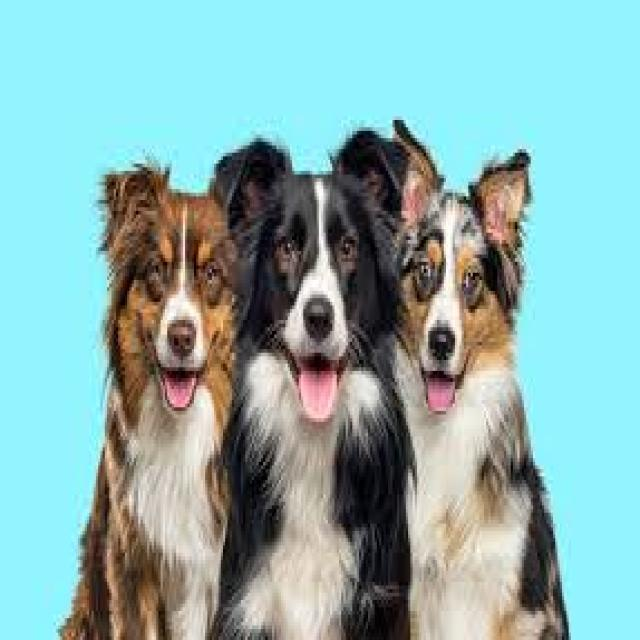BORDER_COLLIE: (375, 105, 593, 640), (204, 120, 408, 640), (72, 138, 251, 640)
